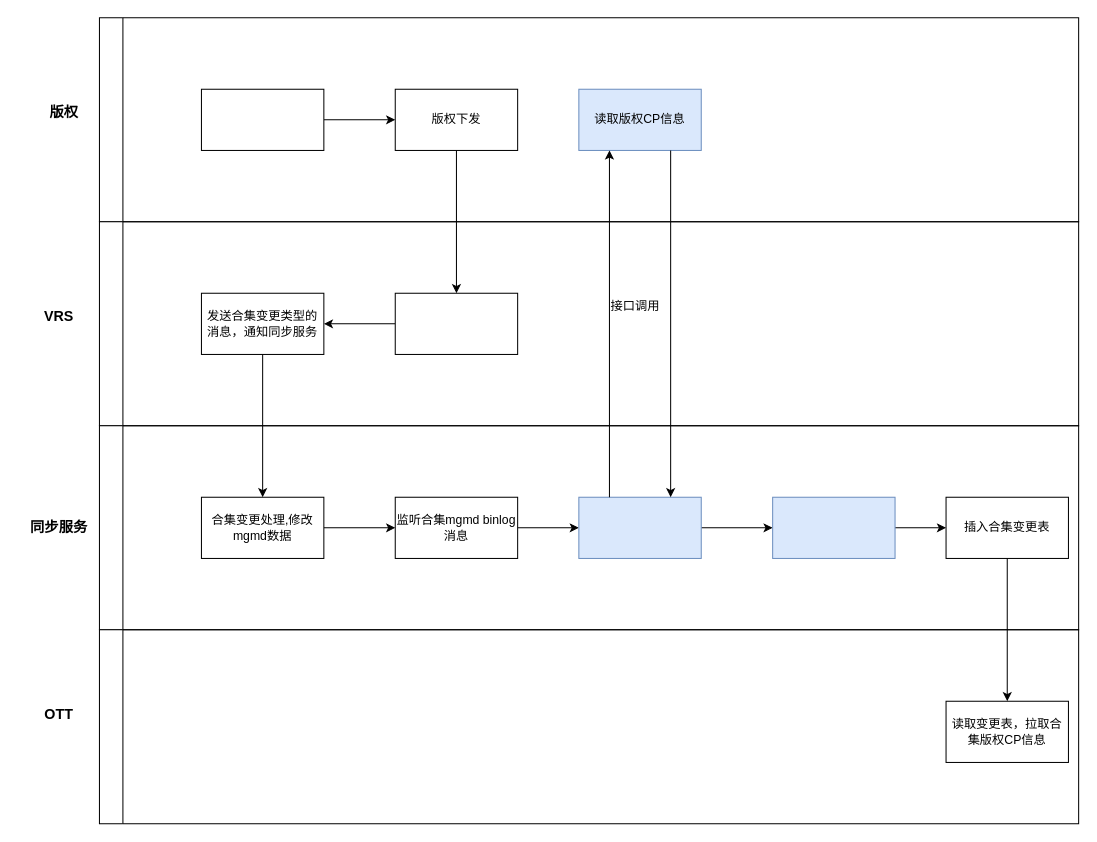
Image size: 1097x842. Some labels were removed from this diagram. Here are the shapes that lost their labels. From the top down, the box of each, then its label:
(200, 88, 324, 150): 版权变更
(394, 292, 518, 354): 合集版权信息变更
(578, 496, 701, 558): 拉取合集版权CP信息
(772, 496, 895, 558): 信息入库,插入合集变更队列
